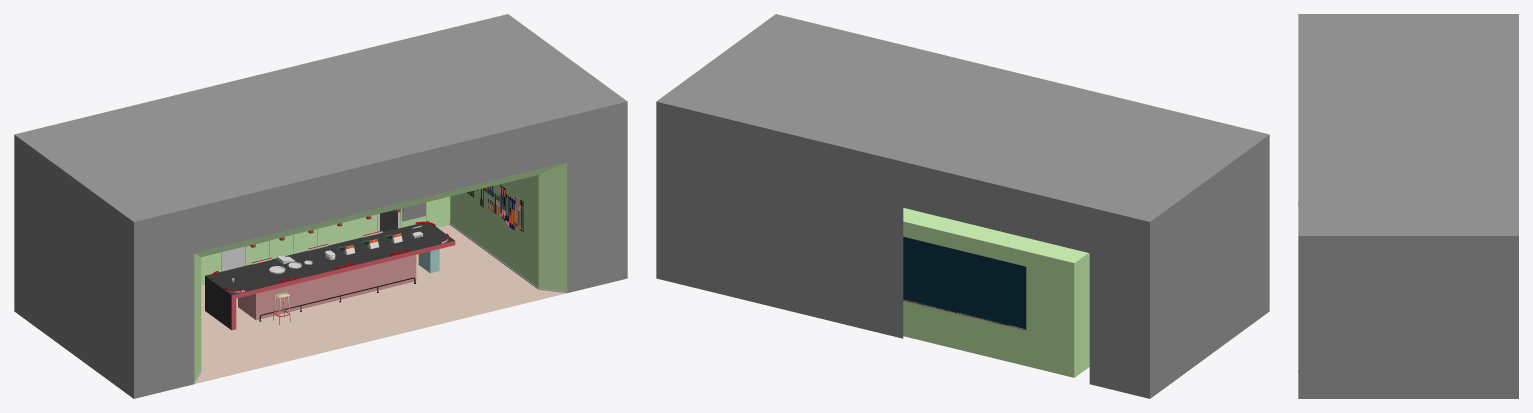
Rendered from ul-kitchen27.glb.
3 views of the same model, side by side, from view 1: azimuth 30°, elevation 25°; view 2: azimuth 150°, elevation 25°; view 3: azimuth 270°, elevation 25° (orthographic). The views are drawn at different scales.
Visible parts, largest first — view 1: concreteWalls, floor, mainGreenWall, mainTablePlate, mainTableBase, closetDoors, mainTableSidePannels, mainTableSidePlane; view 2: concreteWalls, mainGreenWall, MainNishBackWall; view 3: concreteWalls.
Part boxes in pixels (x1,y1,x2,y2): concreteWalls: (14, 14, 627, 398); floor: (195, 225, 565, 383); mainGreenWall: (194, 162, 567, 381); mainTablePlate: (205, 221, 454, 295); mainTableBase: (238, 255, 416, 320); closetDoors: (201, 196, 450, 281); mainTableSidePannels: (231, 241, 455, 330); mainTableSidePlane: (205, 276, 231, 329); concreteWalls: (656, 14, 1269, 398); mainGreenWall: (903, 208, 1089, 377); MainNishBackWall: (903, 237, 1026, 329); concreteWalls: (1298, 14, 1518, 398).
Size of the model in its own units: 208 by 71.34 by 87.55.
